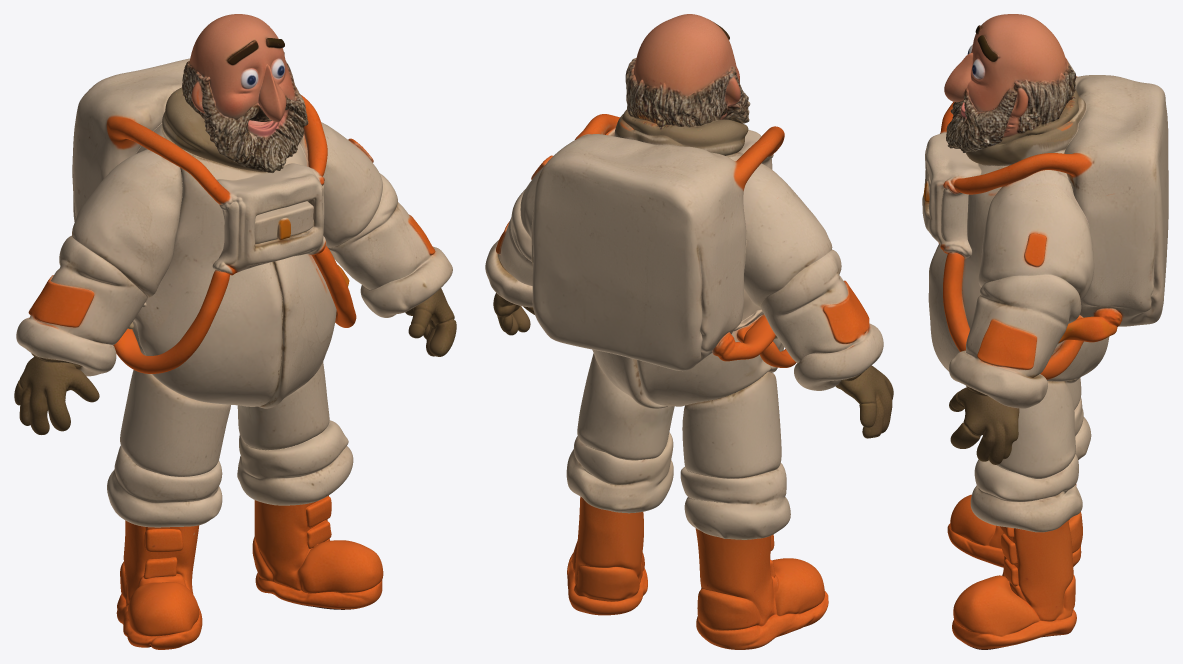
File: A3-clay-suit.glb
3 views of the same model, side by side, from view 1: azimuth 30°, elevation 25°; view 2: azimuth 150°, elevation 25°; view 3: azimuth 270°, elevation 25° (orthographic). The views are drawn at different scales.
Bounding box in the file's own units: 1.38 × 1.9 × 0.7378.
Materials: 1 (1 with a texture image).
